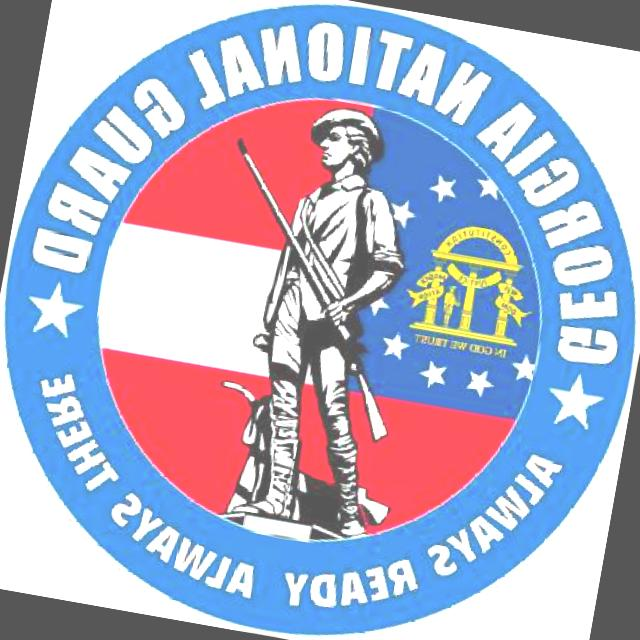Person: (203, 103, 442, 566)
